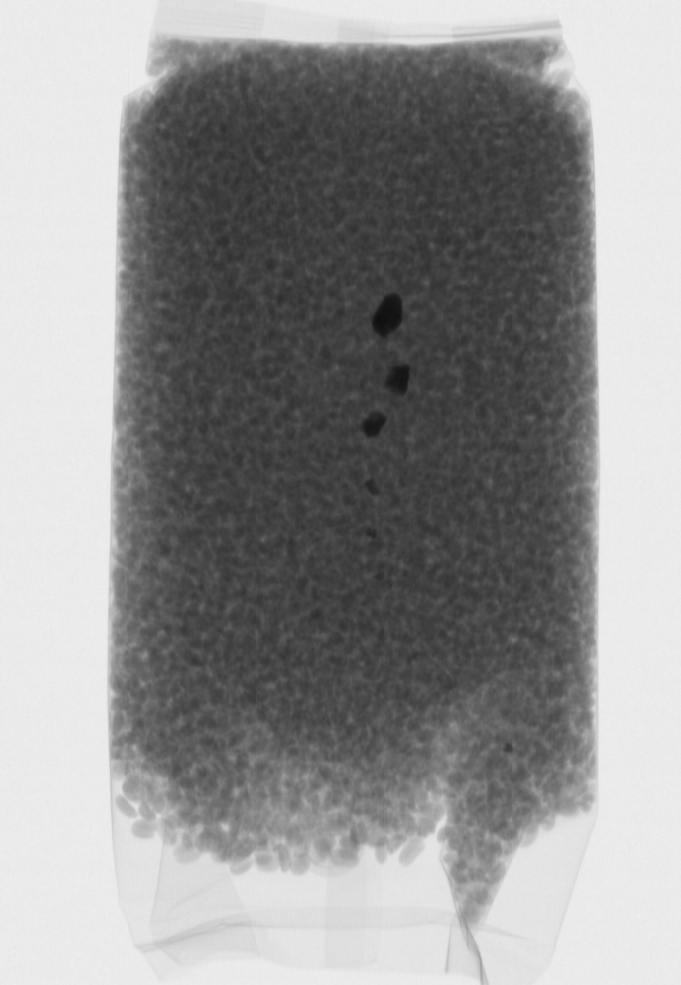stone: (369, 287, 405, 340), (359, 406, 391, 443), (383, 360, 416, 395), (360, 475, 387, 494), (359, 524, 380, 540)
stone_area: (339, 258, 426, 555)
